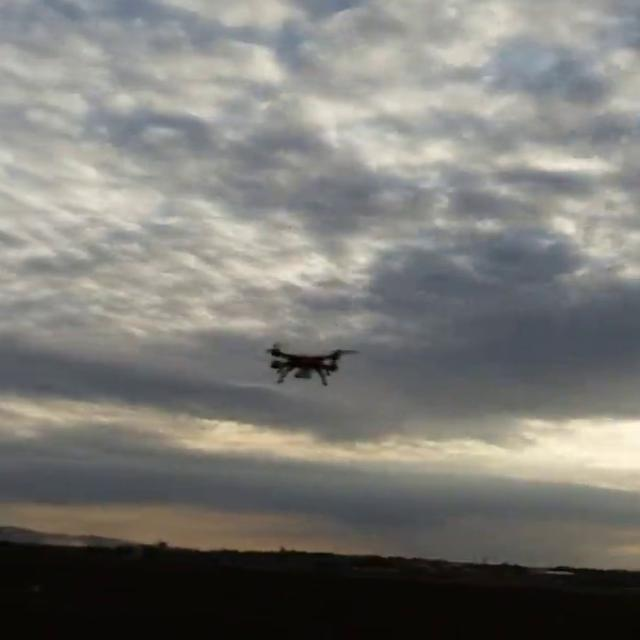drone: (257, 342, 367, 386)
